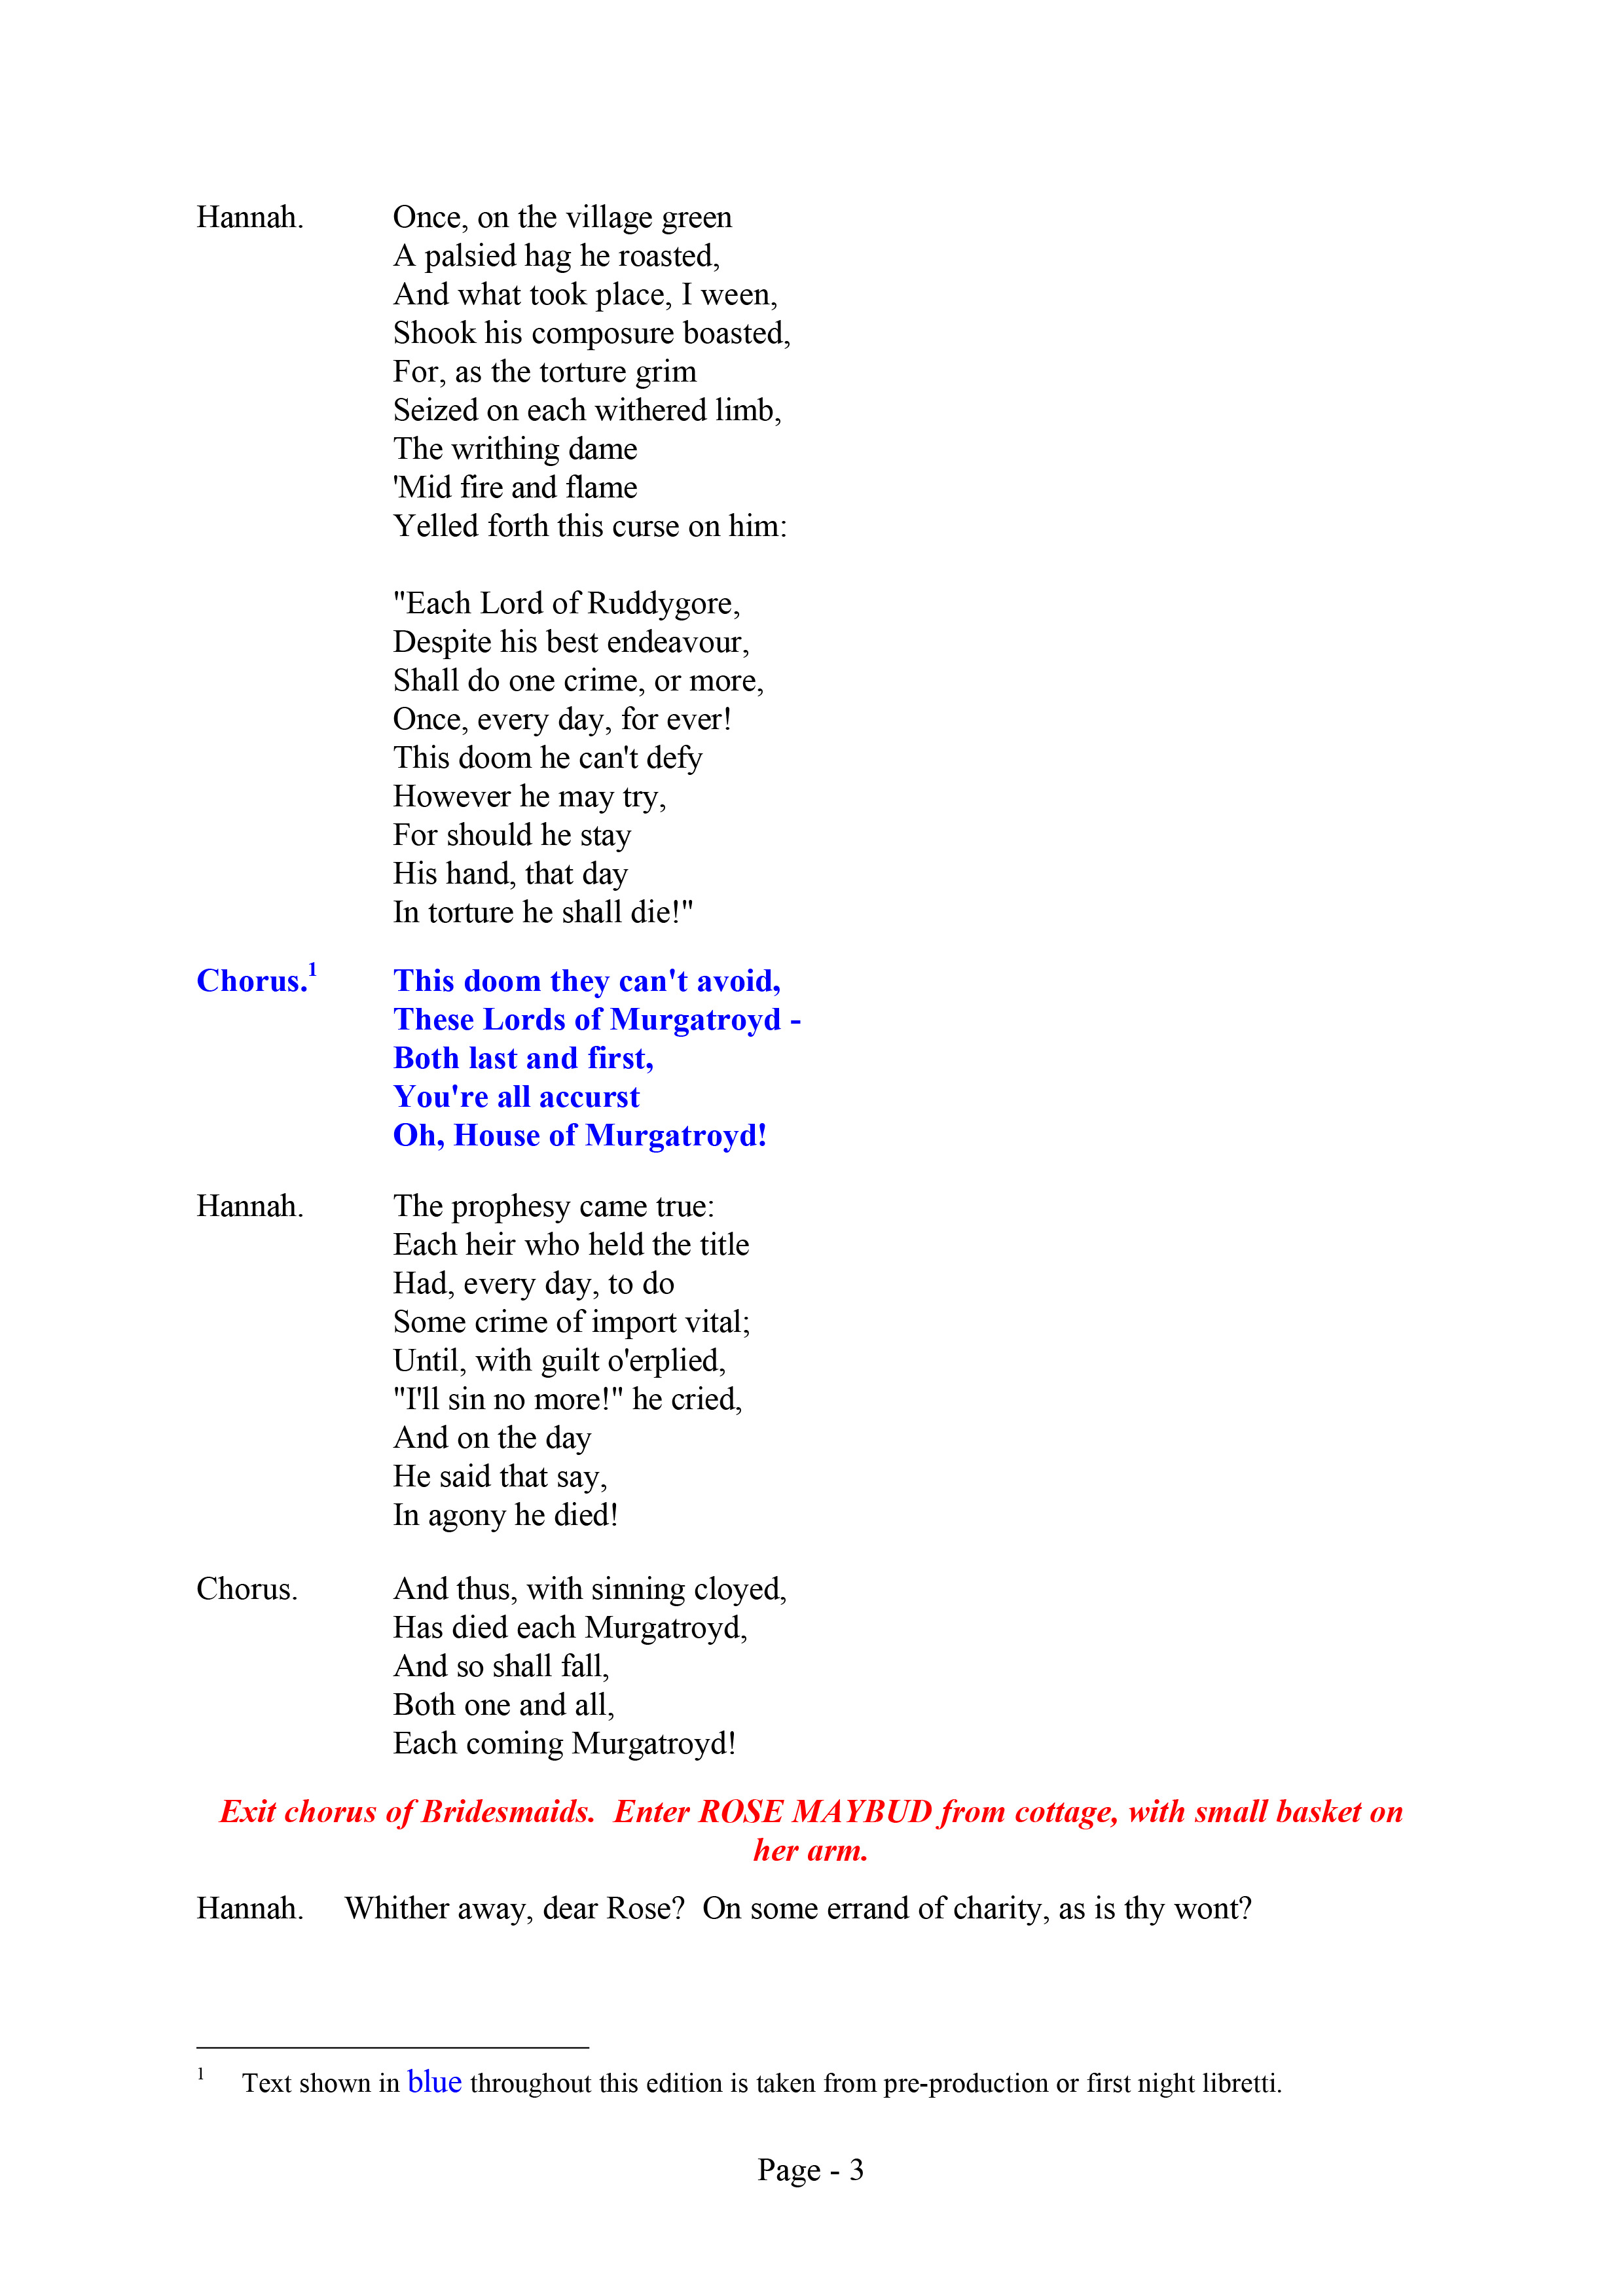section: (221, 1775, 1414, 1852)
text: (392, 179, 815, 549), (371, 570, 754, 948), (371, 1194, 785, 1529), (381, 1561, 787, 1775), (385, 965, 804, 1159), (221, 2047, 1263, 2117), (195, 1880, 1263, 1947), (172, 927, 309, 1018), (184, 186, 320, 253)
